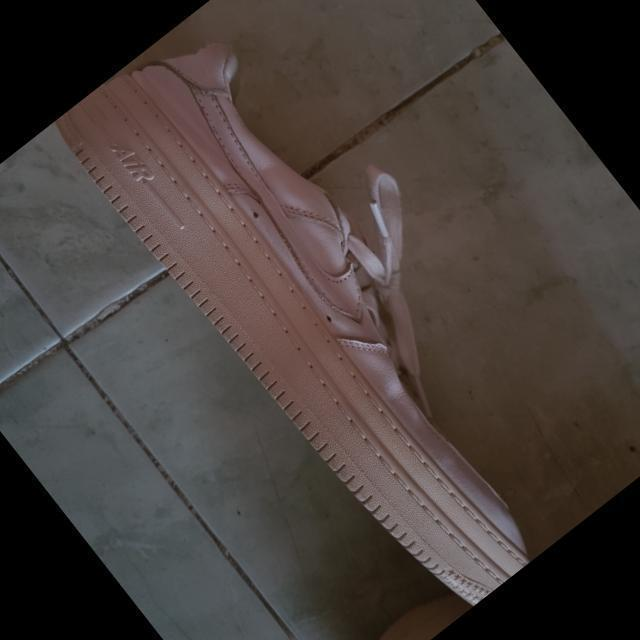nike fake air force: (49, 8, 593, 630)
